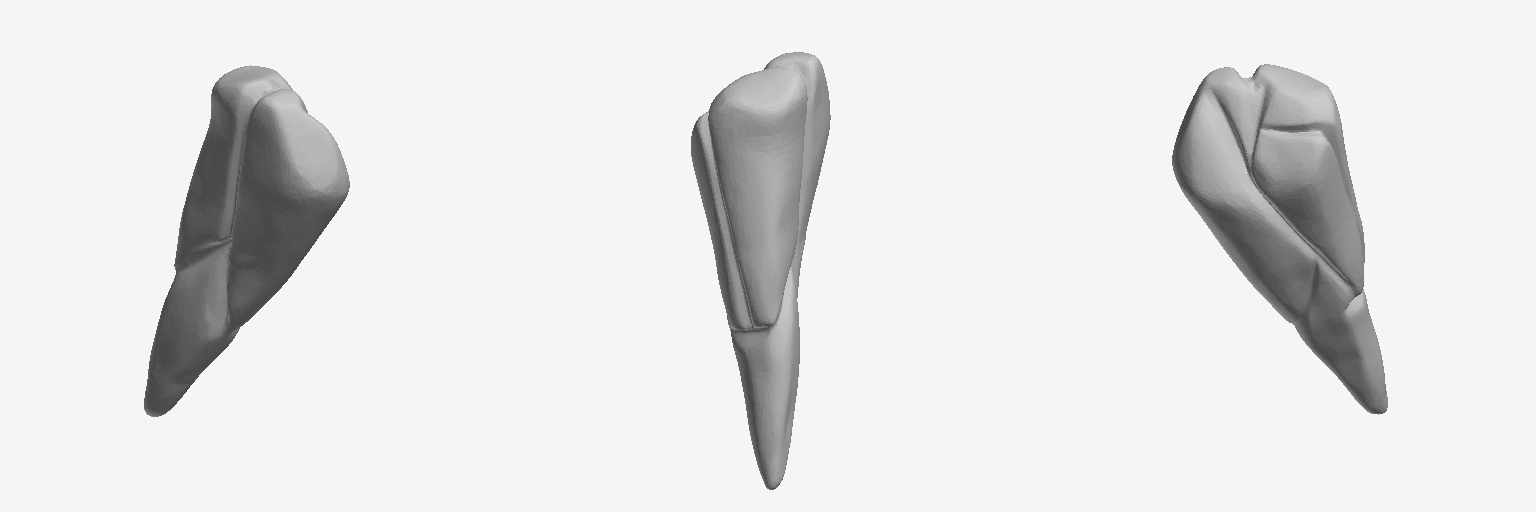
3 renders of one model, left to right at view 1: azimuth 30°, elevation 25°; view 2: azimuth 150°, elevation 25°; view 3: azimuth 270°, elevation 25°, orthographic.
Parts seen in each view (by area): view 1: haiku_direction_1_LOD1; view 2: haiku_direction_1_LOD1; view 3: haiku_direction_1_LOD1.
Boxes of the visible parts, box(x1,y1,x2,y2) form: haiku_direction_1_LOD1: box(144, 65, 349, 416); haiku_direction_1_LOD1: box(691, 52, 830, 489); haiku_direction_1_LOD1: box(1172, 64, 1387, 414).
Bounding box in the file's own units: 0.3511 × 1 × 0.5321.